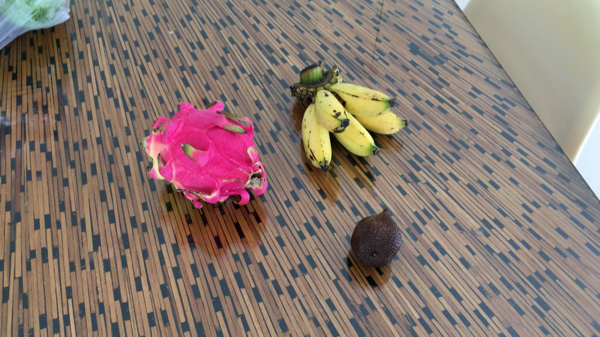banana: (295, 61, 408, 174)
dragon fruit: (143, 94, 269, 207)
snake fruit: (349, 208, 406, 269)
